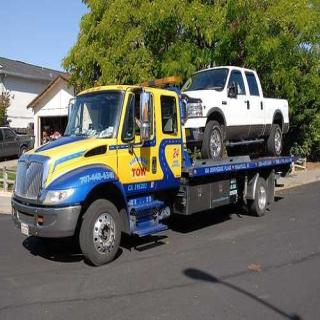Towing_truck: (10, 72, 297, 266)
